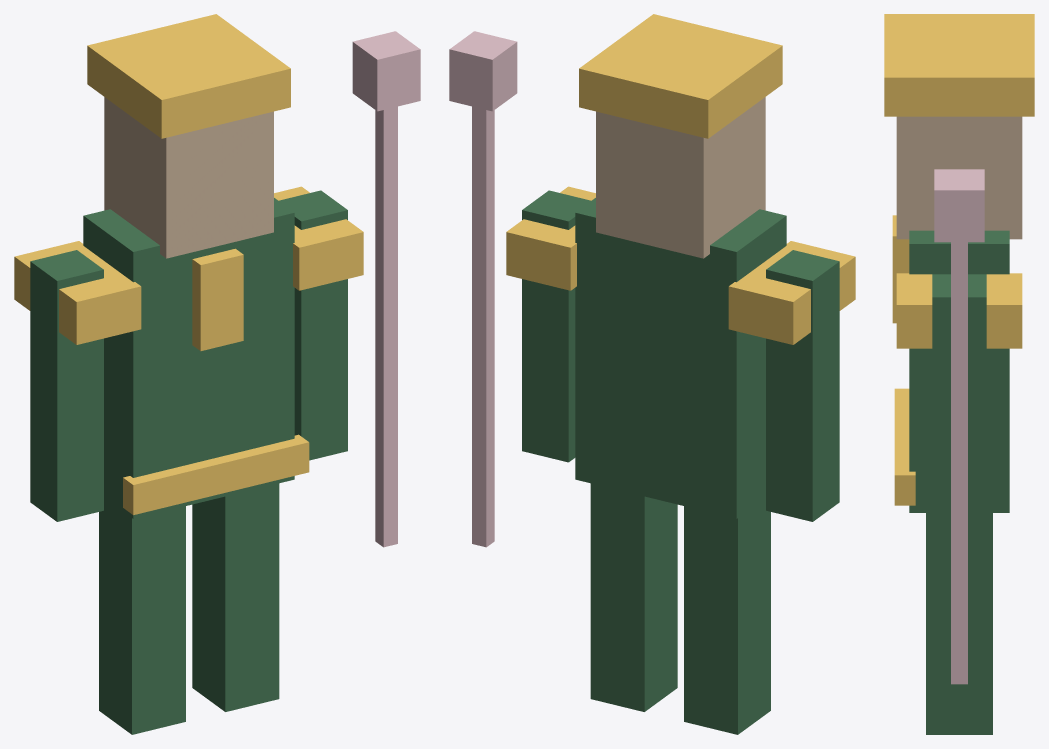
Rendered from 13_calder_spirebound_warden_from_mistbound.glb.
3 views of the same model, side by side, from view 1: azimuth 30°, elevation 25°; view 2: azimuth 150°, elevation 25°; view 3: azimuth 270°, elevation 25° (orthographic).
Parts seen in each view (by area): view 1: Calder Spirebound, Warden from Mistbound; view 2: Calder Spirebound, Warden from Mistbound; view 3: Calder Spirebound, Warden from Mistbound.
Boxes of the visible parts, left/top/right/bottom form: Calder Spirebound, Warden from Mistbound: left=14, top=14, right=420, bottom=734; Calder Spirebound, Warden from Mistbound: left=449, top=14, right=855, bottom=734; Calder Spirebound, Warden from Mistbound: left=884, top=14, right=1034, bottom=734.
Size of the model in its own units: 0.9798 by 1.66 by 0.3475.
